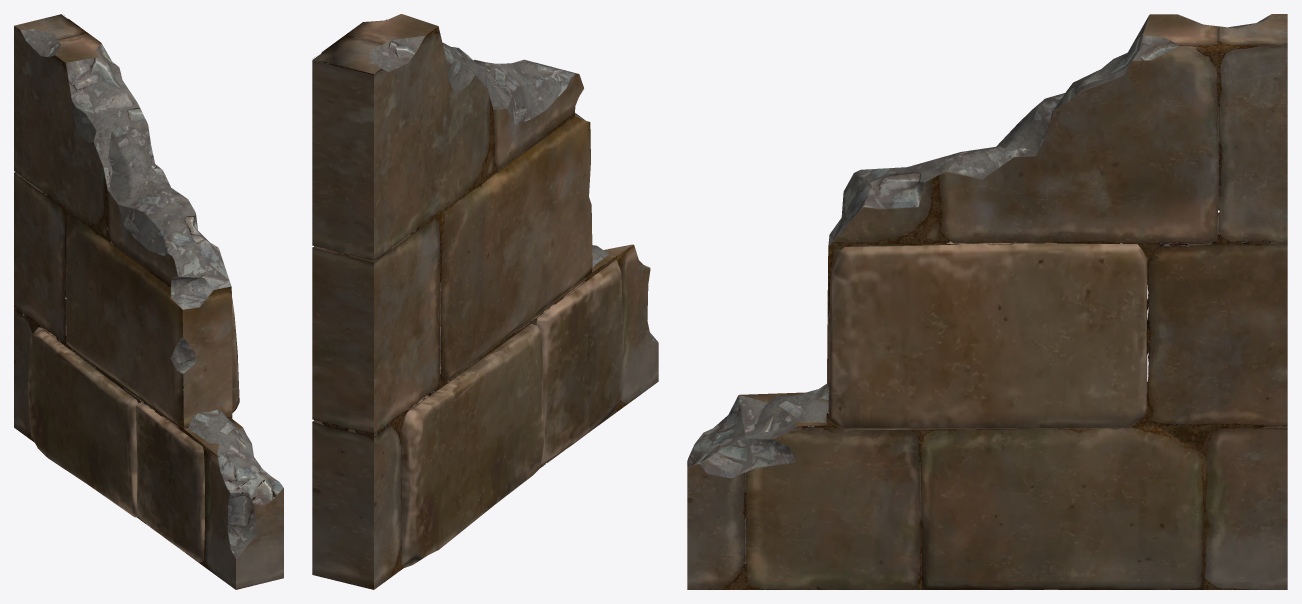
The picture shows the model from 3 angles, left to right: view 1: azimuth 30°, elevation 25°; view 2: azimuth 150°, elevation 25°; view 3: azimuth 270°, elevation 25°; orthographic projection. The views are drawn at different scales.
Parts seen in each view (by area): view 1: SM_Vault_4x4_Dmg_Wall_01_V5_LOD0; view 2: SM_Vault_4x4_Dmg_Wall_01_V5_LOD0; view 3: SM_Vault_4x4_Dmg_Wall_01_V5_LOD0.
Boxes of the visible parts, box(x1,y1,x2,y2) form: SM_Vault_4x4_Dmg_Wall_01_V5_LOD0: box(14, 14, 283, 589); SM_Vault_4x4_Dmg_Wall_01_V5_LOD0: box(312, 14, 658, 589); SM_Vault_4x4_Dmg_Wall_01_V5_LOD0: box(687, 14, 1287, 589).
Size of the model in its own units: 0.7121 by 4 by 4.
Materials: 3 (3 with a texture image).
